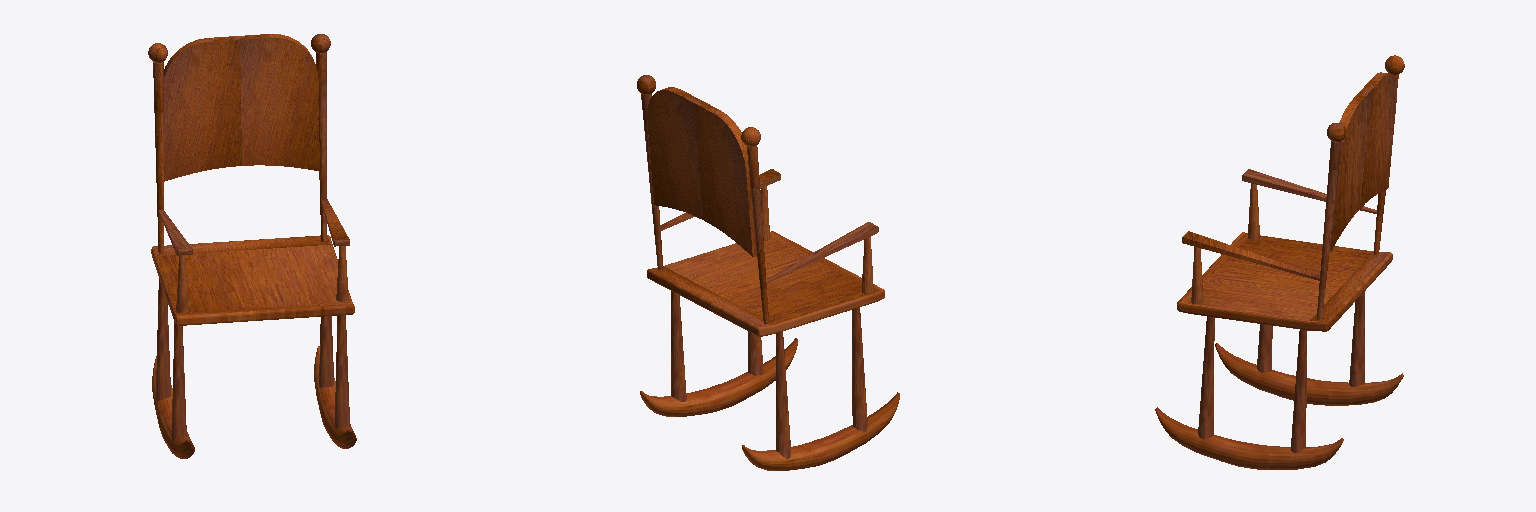
The picture shows the model from 3 angles: view 1: azimuth 30°, elevation 25°; view 2: azimuth 150°, elevation 25°; view 3: azimuth 270°, elevation 25°; orthographic projection.
Parts seen in each view (by area): view 1: FinalCaraje:polySurface101; view 2: FinalCaraje:polySurface101; view 3: FinalCaraje:polySurface101.
Boxes of the visible parts, box(x1,y1,x2,y2) form: FinalCaraje:polySurface101: box(148, 34, 356, 458); FinalCaraje:polySurface101: box(637, 75, 899, 470); FinalCaraje:polySurface101: box(1155, 55, 1404, 469).
Size of the model in its own units: 0.8476 by 1.43 by 0.8994.
Materials: 1 (1 with a texture image).